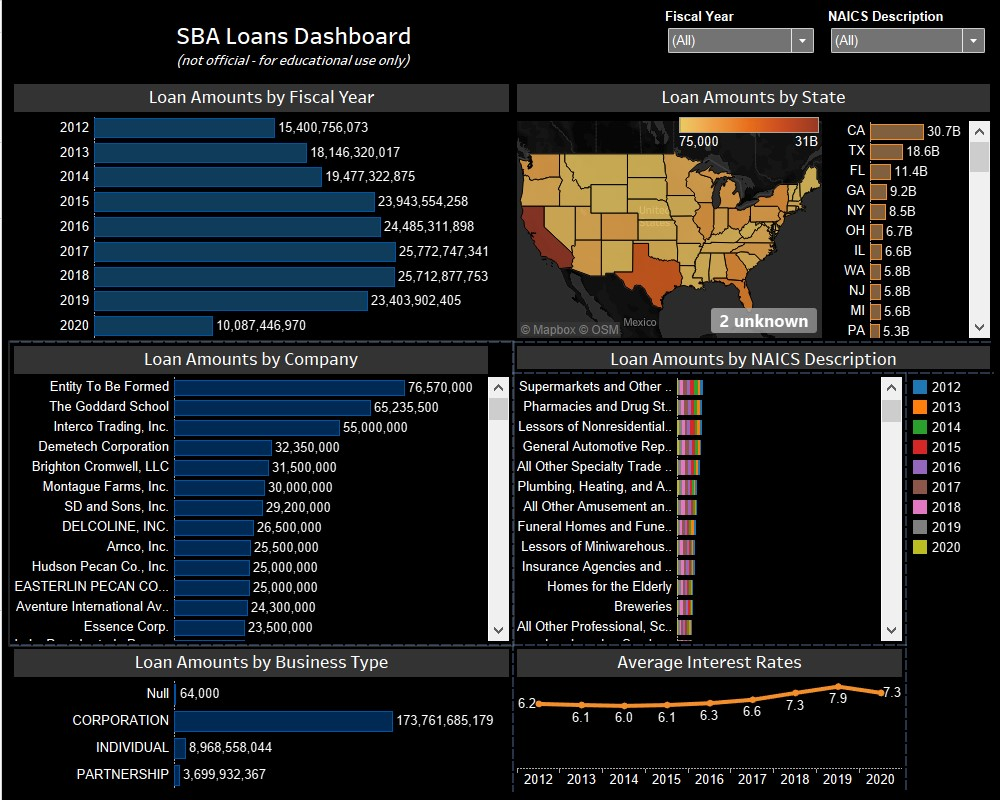

This screenshot's page, from the dashboard's own definition file:
{"tool":"tableau","page":{"name":"SBA Loans Dashboard","canvas":[1000,800],"ordinal":0},"visuals":[{"type":"worksheet","box":[0,0,1000,800]},{"type":"worksheet","param":"vert","box":[659,5,160,58]},{"type":"worksheet","title":"Loan Amounts","mark":"Bar","rows":["ApprovalFiscalYear"],"cols":["GrossApproval"],"param":"[federated.0zu7riw1dh7c9x19oqs9k1rpnxxc].[none:ApprovalFiscalYear:ok]","box":[659,5,160,55]},{"type":"worksheet","param":"C:/Users/98452/DataViz-Lesson-Plans/01-Lesson-Plans/20-Tableau/3/03/Images/varia","box":[8,8,159,72]},{"type":"worksheet","box":[167,8,825,72]},{"type":"worksheet","title":"Loan Amounts","mark":"Bar","rows":["ApprovalFiscalYear"],"cols":["GrossApproval"],"param":"[federated.0zu7riw1dh7c9x19oqs9k1rpnxxc].[none:NaicsDescription:nk]","box":[826,9,160,48]},{"type":"worksheet","param":"horz","box":[8,80,984,712]},{"type":"worksheet","param":"horz","box":[8,80,984,712]},{"type":"worksheet","param":"vert","box":[8,80,984,712]},{"type":"worksheet","param":"horz","box":[8,80,984,712]},{"type":"worksheet","box":[8,80,984,712]},{"type":"worksheet","param":"horz","box":[8,80,984,261.6]},{"type":"worksheet","box":[8,80,984,261.6]},{"type":"worksheet","title":"Loan Amounts","mark":"Bar","rows":["ApprovalFiscalYear"],"cols":["GrossApproval"],"box":[8,80,503,261.6]},{"type":"worksheet","title":"By State Title","mark":"Automatic","box":[511,80,481,36.8]},{"type":"worksheet","title":"Map","mark":"Automatic","param":"[federated.0zu7riw1dh7c9x19oqs9k1rpnxxc].[sum:GrossApproval:qk]","box":[673,113,148,38]},{"type":"worksheet","title":"Map","mark":"Automatic","box":[511,116.8,313,224.8]},{"type":"worksheet","title":"By State","mark":"Bar","rows":["BorrState"],"cols":["GrossApproval"],"box":[824,116.8,168,224.8]},{"type":"worksheet","title":"By Company","mark":"Automatic","rows":["BorrName"],"cols":["GrossApproval"],"box":[8,341.6,503,303.4]},{"type":"worksheet","title":"By NAICS Code Title","mark":"Automatic","box":[511,341.6,481,31.9]},{"type":"worksheet","title":"NAICS","mark":"Bar","rows":["NaicsDescription"],"cols":["GrossApproval"],"box":[511,373.5,393,271.5]},{"type":"worksheet","title":"NAICS","mark":"Bar","rows":["NaicsDescription"],"cols":["GrossApproval"],"param":"[federated.0zu7riw1dh7c9x19oqs9k1rpnxxc].[none:ApprovalFiscalYear:ok]","box":[904,373.5,88,418.5]},{"type":"worksheet","title":"Business Type","mark":"Automatic","rows":["BusinessType"],"cols":["GrossApproval"],"box":[8,645,503,147]},{"type":"worksheet","title":"Interest Rates","mark":"Line","rows":["InitialInterestRate"],"cols":["ApprovalFiscalYear"],"box":[511,645,393,147]}]}

Visuals, with their boxes in screenshot pixels (x1, y1, x2, y2), scaled from the page's 1000x800 canvas onto the 1000x800 screenshot:
worksheet: BBox(0, 0, 999, 799)
worksheet: BBox(659, 5, 819, 63)
"Loan Amounts" worksheet (Bar marks): BBox(659, 5, 819, 60)
worksheet: BBox(8, 8, 167, 80)
worksheet: BBox(167, 8, 992, 80)
"Loan Amounts" worksheet (Bar marks): BBox(826, 9, 986, 57)
worksheet: BBox(8, 80, 992, 792)
worksheet: BBox(8, 80, 992, 792)
worksheet: BBox(8, 80, 992, 792)
worksheet: BBox(8, 80, 992, 792)
worksheet: BBox(8, 80, 992, 792)
worksheet: BBox(8, 80, 992, 342)
worksheet: BBox(8, 80, 992, 342)
"Loan Amounts" worksheet (Bar marks): BBox(8, 80, 511, 342)
"By State Title" worksheet: BBox(511, 80, 992, 117)
"Map" worksheet: BBox(673, 113, 821, 151)
"Map" worksheet: BBox(511, 117, 824, 342)
"By State" worksheet (Bar marks): BBox(824, 117, 992, 342)
"By Company" worksheet: BBox(8, 342, 511, 645)
"By NAICS Code Title" worksheet: BBox(511, 342, 992, 374)
"NAICS" worksheet (Bar marks): BBox(511, 374, 904, 645)
"NAICS" worksheet (Bar marks): BBox(904, 374, 992, 792)
"Business Type" worksheet: BBox(8, 645, 511, 792)
"Interest Rates" worksheet (Line marks): BBox(511, 645, 904, 792)
